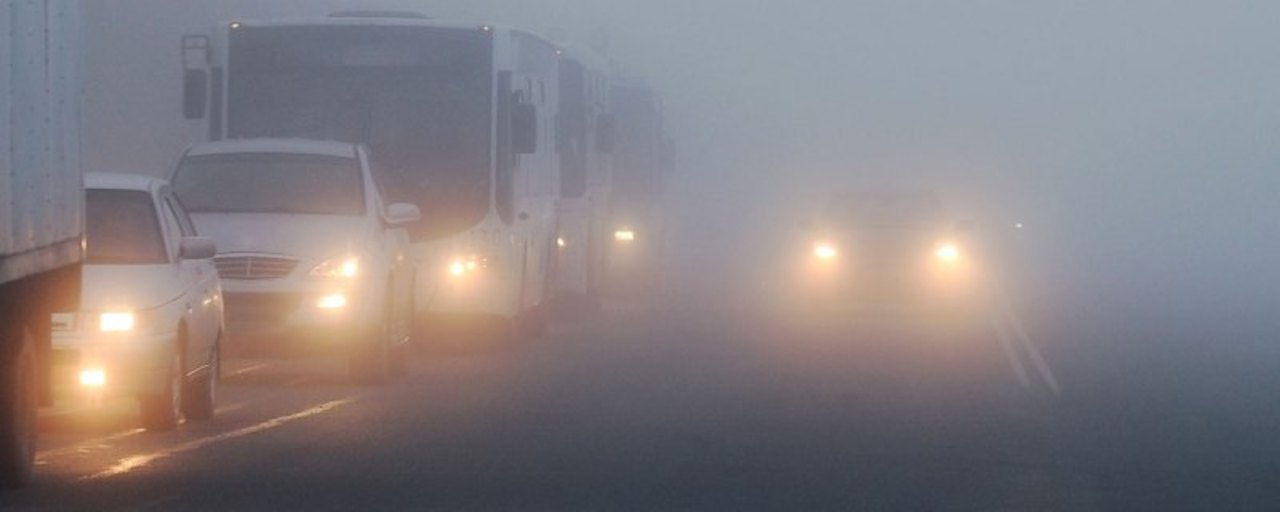bus: (180, 16, 562, 337), (605, 69, 679, 302), (555, 29, 610, 326)
car: (152, 139, 421, 373), (27, 172, 235, 441), (800, 183, 975, 316)
